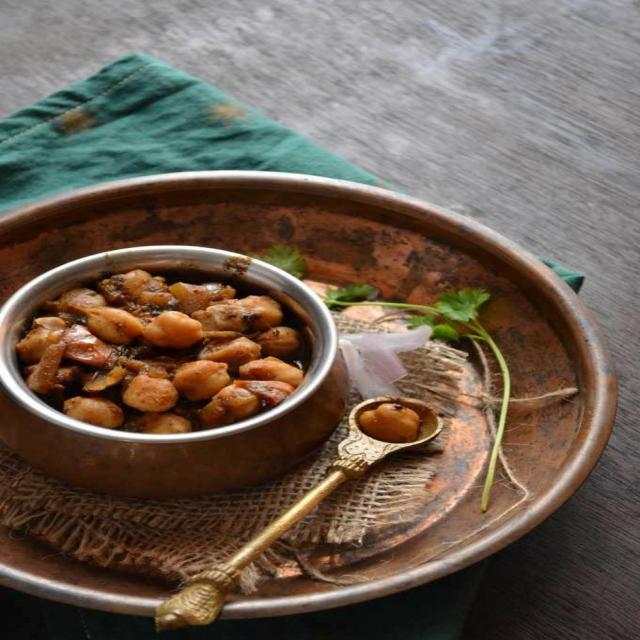Chole: (14, 266, 306, 434)
